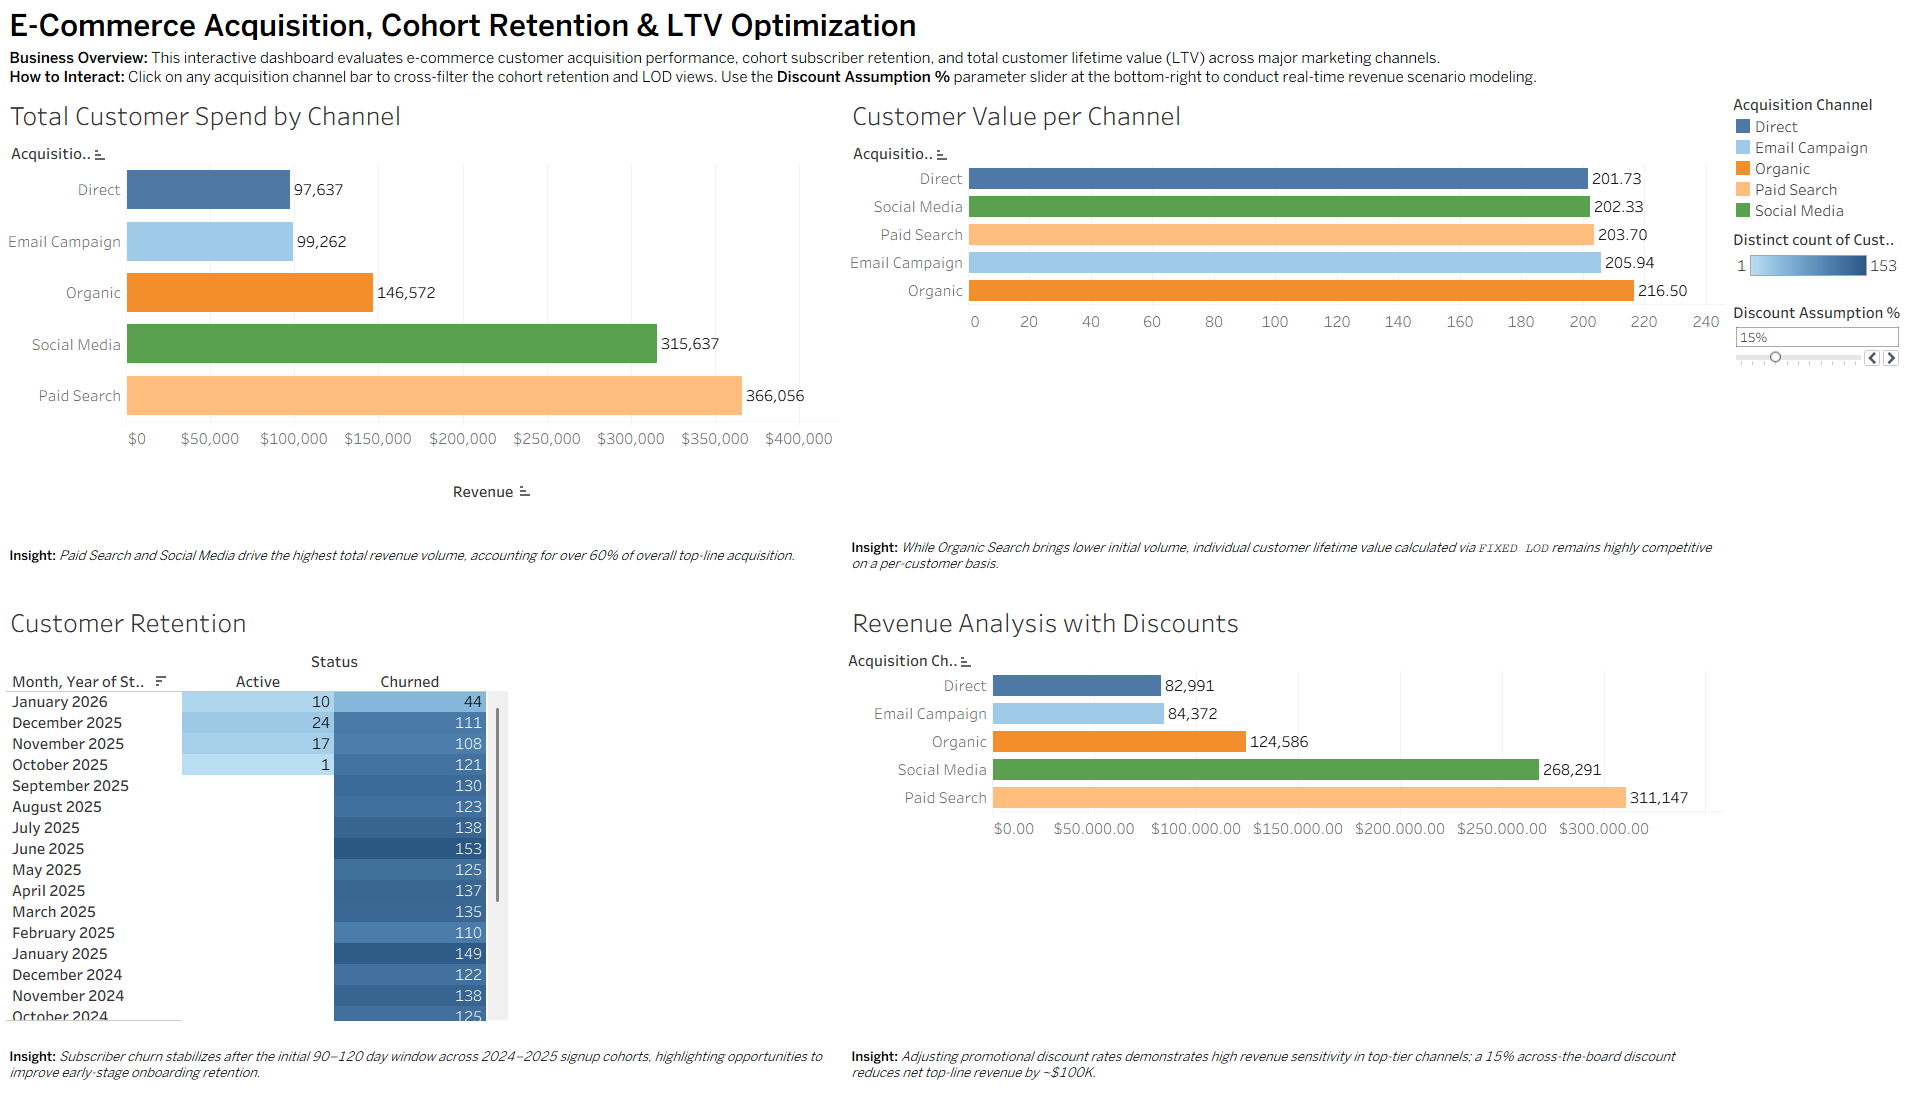

What the dashboard file says about the page in this screenshot:
{"tool":"tableau","page":{"name":"Executive_ECommerce_LTV_Dashboard","canvas":[1000,1000],"units":"permille","ordinal":0},"visuals":[{"type":"title","box":[4.8,8.7,990.3,40.2]},{"type":"text","box":[4.8,48.9,990.3,50]},{"type":"worksheet","title":"01_LTV_by_Channel","mark":"Automatic","rows":["Acquisition_Channel"],"cols":["Revenue"],"box":[4.8,98.8,430.9,372.5]},{"type":"worksheet","title":"03_LOD_Customer_Value","mark":"Automatic","rows":["Acquisition_Channel"],"cols":["Calculation_2027835789979648"],"box":[435.7,98.8,452.6,372.8]},{"type":"legend","title":"01_LTV_by_Channel","param":"[federated.0k1dmdf0e93r3h1cn1raq1y298es].[none:Acquisition_Channel:nk]","box":[888.4,98.8,106.8,146.6]},{"type":"legend","title":"02_Cohort_Retention","param":"[federated.0k1dmdf0e93r3h1cn1raq1y298es].[ctd:Customer_ID:qk]","box":[888.4,245.4,106.8,79.3]},{"type":"parameter","param":"[Parameters].[Parameter 1]","box":[888.4,324.7,106.8,85.8]},{"type":"text","box":[4.8,471.4,430.9,73.7]},{"type":"text","box":[435.7,471.6,452.6,73.4]},{"type":"worksheet","title":"02_Cohort_Retention","mark":"Square","rows":["Start_Date"],"cols":["Status"],"box":[4.8,545,430.9,376.7]},{"type":"worksheet","title":"04_Executive_Parameter_Mode","mark":"Automatic","rows":["Acquisition_Channel"],"cols":["Calculation_2027835792744449"],"box":[435.7,545,452.6,376.7]},{"type":"text","box":[4.8,921.7,430.9,69.6]},{"type":"text","box":[435.7,921.7,452.6,69.6]}]}

Visuals, with their boxes on the dashboard's canvas, which has no fixed pixel size, in thousandths of its width and height (x1, y1, x2, y2). These are canvas units, not pixel positions in the 1912x1097 screenshot, which may show the page scaled, cropped or inside an application window:
title: BBox(5, 9, 995, 49)
text: BBox(5, 49, 995, 99)
"01_LTV_by_Channel" worksheet: BBox(5, 99, 436, 471)
"03_LOD_Customer_Value" worksheet: BBox(436, 99, 888, 472)
"01_LTV_by_Channel" legend: BBox(888, 99, 995, 245)
"02_Cohort_Retention" legend: BBox(888, 245, 995, 325)
parameter: BBox(888, 325, 995, 410)
text: BBox(5, 471, 436, 545)
text: BBox(436, 472, 888, 545)
"02_Cohort_Retention" worksheet (Square marks): BBox(5, 545, 436, 922)
"04_Executive_Parameter_Mode" worksheet: BBox(436, 545, 888, 922)
text: BBox(5, 922, 436, 991)
text: BBox(436, 922, 888, 991)
